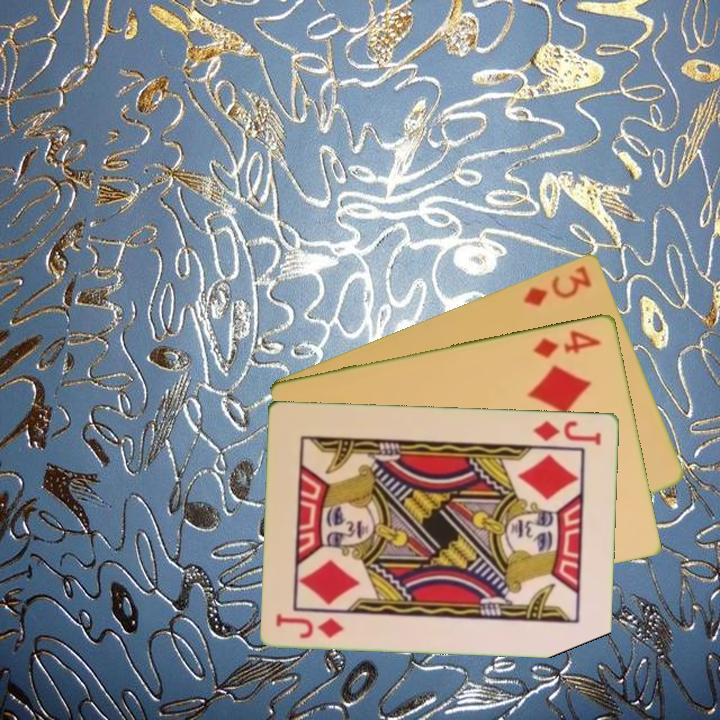3d: (520, 261, 594, 309)
4d: (530, 326, 604, 361)
Jd: (272, 609, 347, 641), (529, 417, 605, 448)
